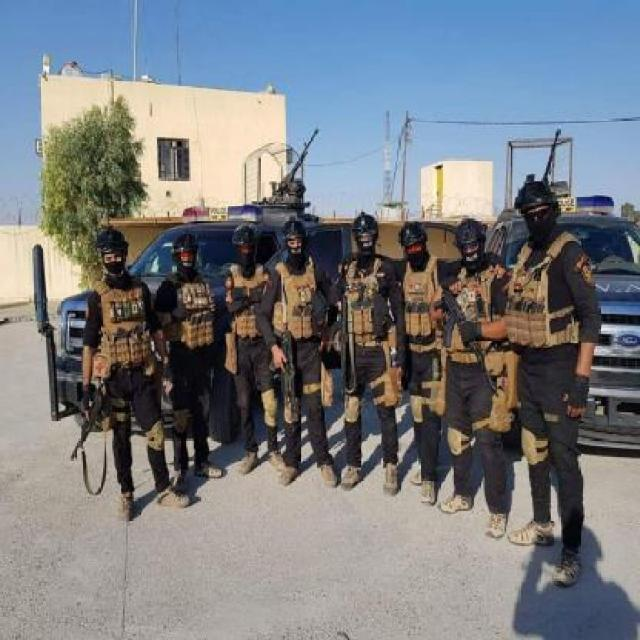weapon: (259, 330, 304, 422)
